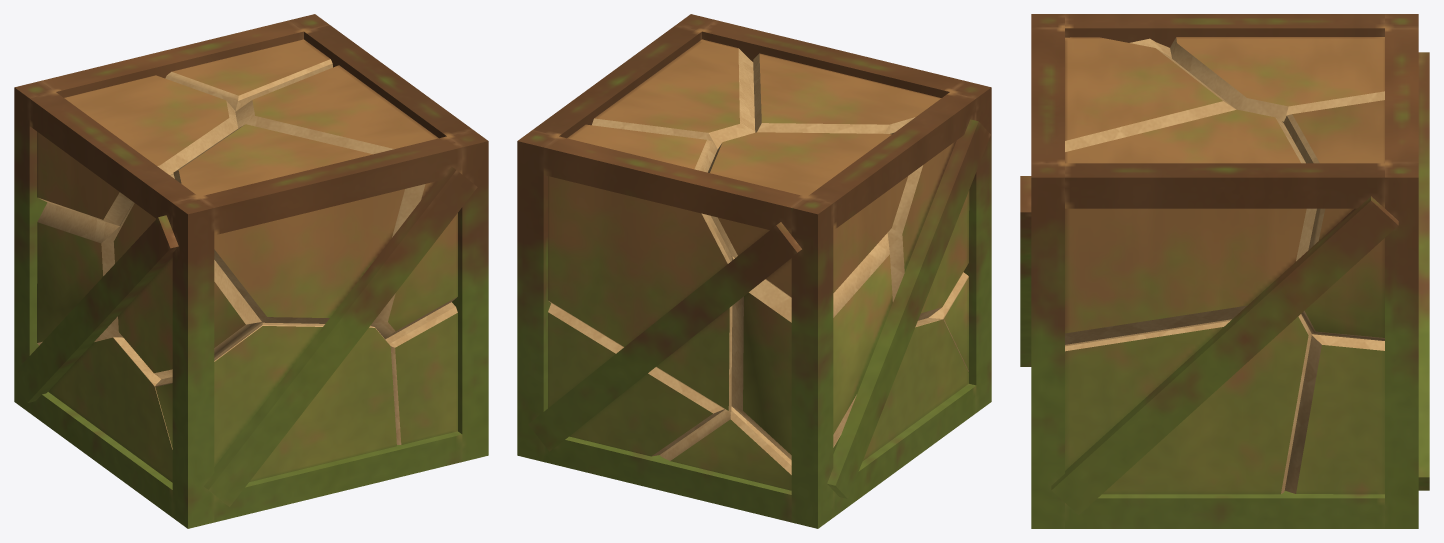
Rendered from Kit_Props_Crate_Fractured.fbx.
3 views of the same model, side by side, from view 1: azimuth 30°, elevation 25°; view 2: azimuth 150°, elevation 25°; view 3: azimuth 270°, elevation 25° (orthographic). The views are drawn at different scales.
Visible parts, largest first — view 1: Kit_Props_Crate_frag_01, Kit_Props_Crate_frag_11, Kit_Props_Crate_frag_10, Kit_Props_Crate_frag_05, Kit_Props_Crate_frag_06, Kit_Props_Crate_frag_02, Kit_Props_Crate_frag_07, Kit_Props_Crate_frag_03, Kit_Props_Crate_frag_12; view 2: Kit_Props_Crate_frag_03, Kit_Props_Crate_frag_05, Kit_Props_Crate_frag_09, Kit_Props_Crate_frag_06, Kit_Props_Crate_frag_10, Kit_Props_Crate_frag_11, Kit_Props_Crate_frag_04, Kit_Props_Crate_frag_02, Kit_Props_Crate_frag_07, Kit_Props_Crate_frag_01; view 3: Kit_Props_Crate_frag_10, Kit_Props_Crate_frag_12, Kit_Props_Crate_frag_09, Kit_Props_Crate_frag_06, Kit_Props_Crate_frag_03, Kit_Props_Crate_frag_11, Kit_Props_Crate_frag_01, Kit_Props_Crate_frag_02, Kit_Props_Crate_frag_05.
Boxes of the visible parts, x1=… form: Kit_Props_Crate_frag_01: x1=155, y1=166, x2=477, y2=522; Kit_Props_Crate_frag_11: x1=173, y1=124, x2=462, y2=323; Kit_Props_Crate_frag_10: x1=235, y1=25, x2=488, y2=461; Kit_Props_Crate_frag_05: x1=14, y1=81, x2=178, y2=412; Kit_Props_Crate_frag_06: x1=29, y1=75, x2=238, y2=229; Kit_Props_Crate_frag_02: x1=113, y1=174, x2=261, y2=528; Kit_Props_Crate_frag_07: x1=29, y1=337, x2=172, y2=517; Kit_Props_Crate_frag_03: x1=41, y1=20, x2=332, y2=111; Kit_Props_Crate_frag_12: x1=385, y1=302, x2=457, y2=444; Kit_Props_Crate_frag_03: x1=528, y1=124, x2=806, y2=451; Kit_Props_Crate_frag_05: x1=731, y1=119, x2=990, y2=528; Kit_Props_Crate_frag_09: x1=517, y1=130, x2=724, y2=461; Kit_Props_Crate_frag_06: x1=708, y1=92, x2=976, y2=297; Kit_Props_Crate_frag_10: x1=533, y1=14, x2=755, y2=148; Kit_Props_Crate_frag_11: x1=702, y1=20, x2=964, y2=134; Kit_Props_Crate_frag_04: x1=543, y1=406, x2=791, y2=522; Kit_Props_Crate_frag_02: x1=887, y1=81, x2=991, y2=412; Kit_Props_Crate_frag_07: x1=833, y1=318, x2=976, y2=517; Kit_Props_Crate_frag_01: x1=928, y1=272, x2=968, y2=371; Kit_Props_Crate_frag_10: x1=1031, y1=109, x2=1384, y2=528; Kit_Props_Crate_frag_12: x1=1051, y1=196, x2=1398, y2=528; Kit_Props_Crate_frag_09: x1=1284, y1=163, x2=1418, y2=528; Kit_Props_Crate_frag_06: x1=1065, y1=14, x2=1384, y2=122; Kit_Props_Crate_frag_03: x1=1283, y1=28, x2=1429, y2=490; Kit_Props_Crate_frag_11: x1=1031, y1=28, x2=1236, y2=163; Kit_Props_Crate_frag_01: x1=1020, y1=176, x2=1031, y2=366; Kit_Props_Crate_frag_02: x1=1031, y1=14, x2=1171, y2=58; Kit_Props_Crate_frag_05: x1=1385, y1=14, x2=1418, y2=28.
Size of what is drawn, in the model's own units: 0.845 by 0.8 by 0.845.
Materials: 2 (2 with a texture image).
